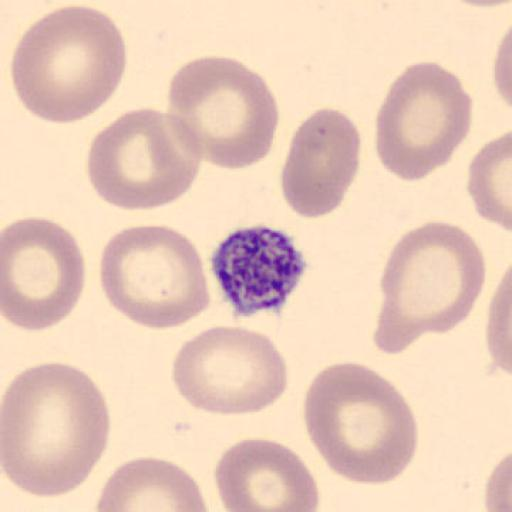Platelet: (208, 222, 311, 320)
RBC: (0, 360, 111, 499), (302, 360, 419, 486), (9, 3, 129, 125), (164, 53, 281, 171), (378, 219, 488, 340), (85, 106, 202, 213), (374, 59, 474, 182), (98, 224, 211, 330), (170, 324, 288, 418), (1, 214, 87, 332), (279, 104, 362, 218), (213, 436, 322, 512), (94, 455, 208, 512), (466, 128, 512, 233), (485, 267, 512, 382), (483, 448, 512, 512), (492, 21, 512, 113), (438, 0, 512, 8)
